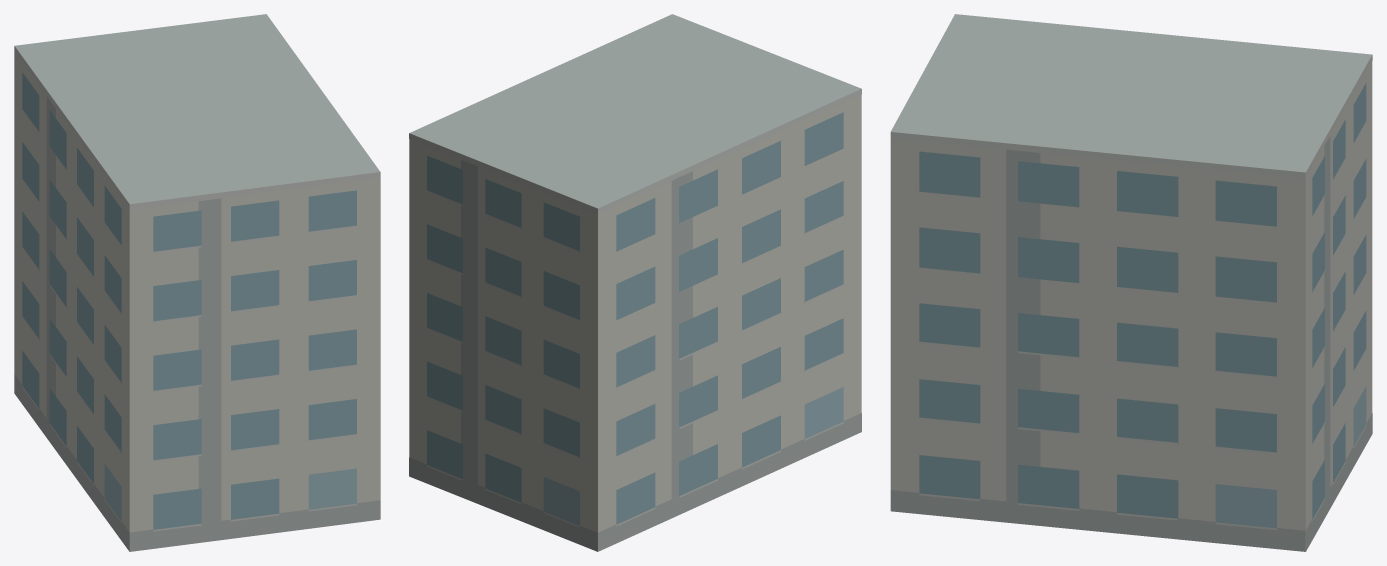
Rendered from survey-upis-33008981.glb.
The picture shows the model from 3 angles, left to right: view 1: azimuth 30°, elevation 25°; view 2: azimuth 150°, elevation 25°; view 3: azimuth 270°, elevation 25°; orthographic projection. The views are drawn at different scales.
Visible parts, largest first — view 1: survey-upis-33008981.tmp; view 2: survey-upis-33008981.tmp; view 3: survey-upis-33008981.tmp.
Part boxes in pixels (left/top/right/bottom): survey-upis-33008981.tmp: left=14, top=14, right=380, bottom=551; survey-upis-33008981.tmp: left=409, top=14, right=861, bottom=551; survey-upis-33008981.tmp: left=890, top=14, right=1372, bottom=551.
Bounding box in the file's own units: 12.91 × 14.4 × 16.59.
